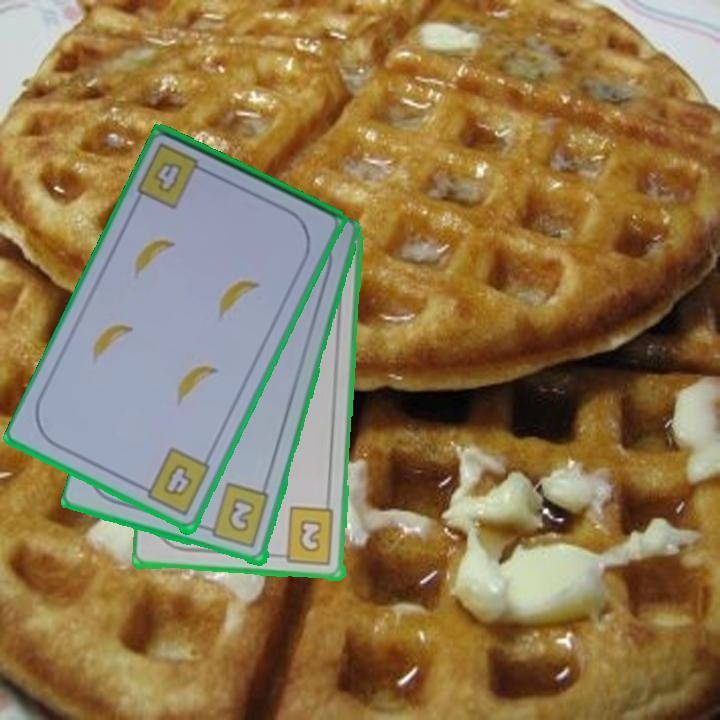2b: (199, 480, 273, 551), (273, 505, 337, 568)
4b: (135, 445, 213, 520), (150, 158, 186, 197)
